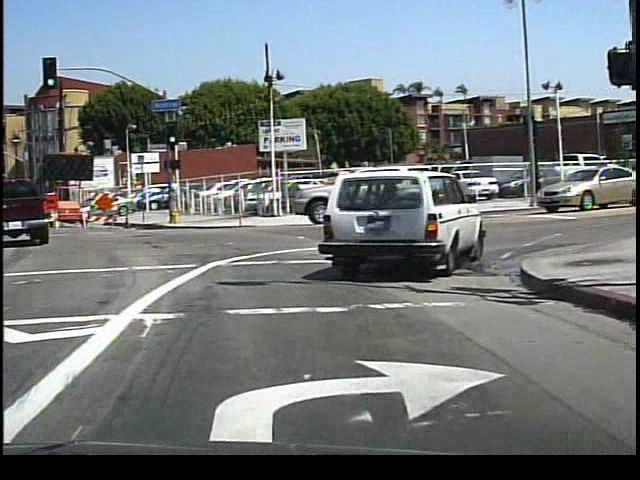person: (525, 162, 544, 206)
